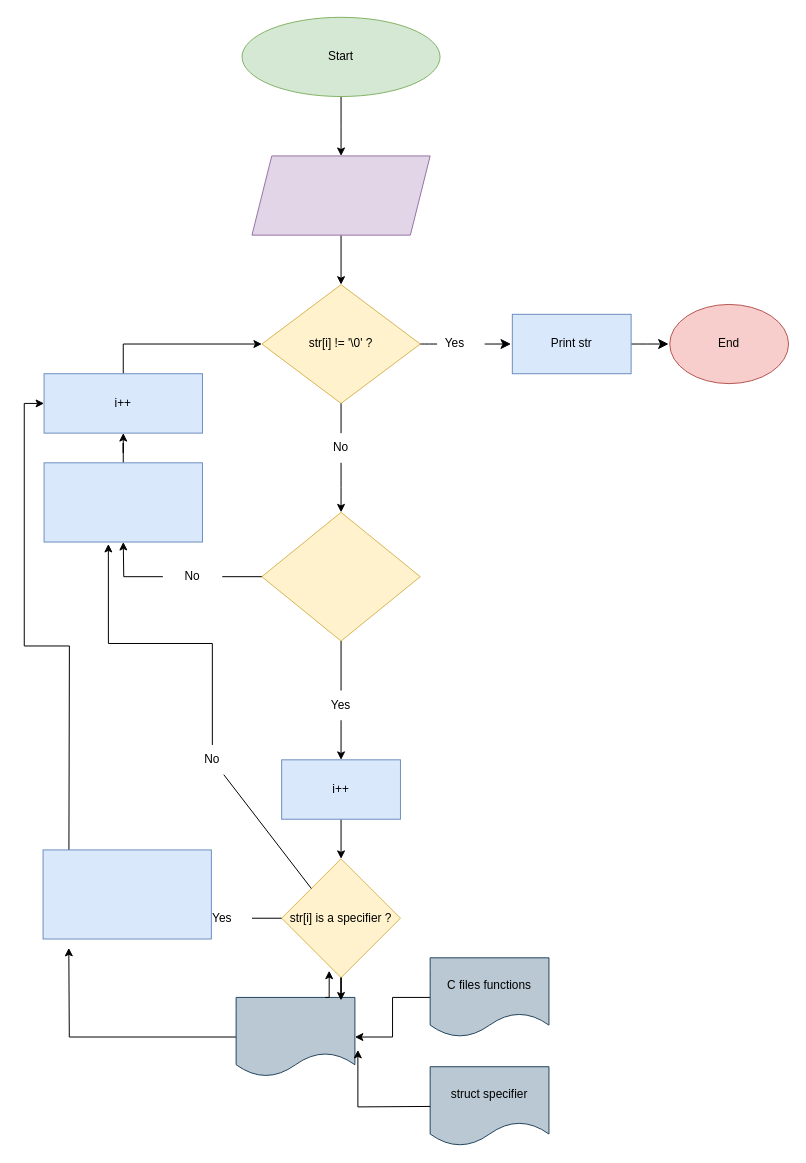
The diagram is 806 pixels wide and 1163 high, and some of its shapes have lost their labels. The shapes that lost their labels are listed below. From the top down, each one's centre as x and y in pixels, then its label:
the point at 340,195: Input text (str)
the point at 122,502: write str[i]
the point at 340,576: str[i] == '%' ?
the point at 126,894: Execute specified function
the point at 295,1036: main.h
